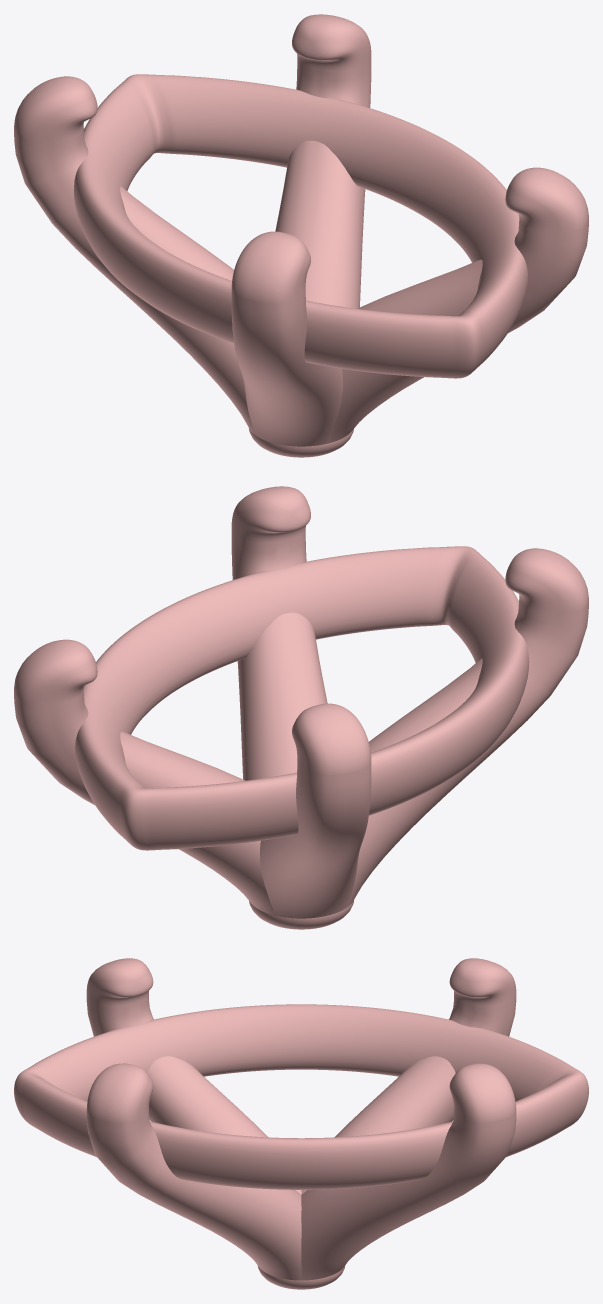
Rendered from MARQUISE.glb.
3 renders of one model, top to bottom at view 1: azimuth 30°, elevation 25°; view 2: azimuth 150°, elevation 25°; view 3: azimuth 270°, elevation 25°, orthographic. The views are drawn at different scales.
Visible parts, largest first — view 1: marquise; view 2: marquise; view 3: marquise.
Boxes of the visible parts, x1,y1,x2,y2 form: marquise: (14,14,588,457); marquise: (14,486,588,929); marquise: (14,958,588,1289).
Size of the model in its own units: 4.98 by 4.3 by 8.44.
